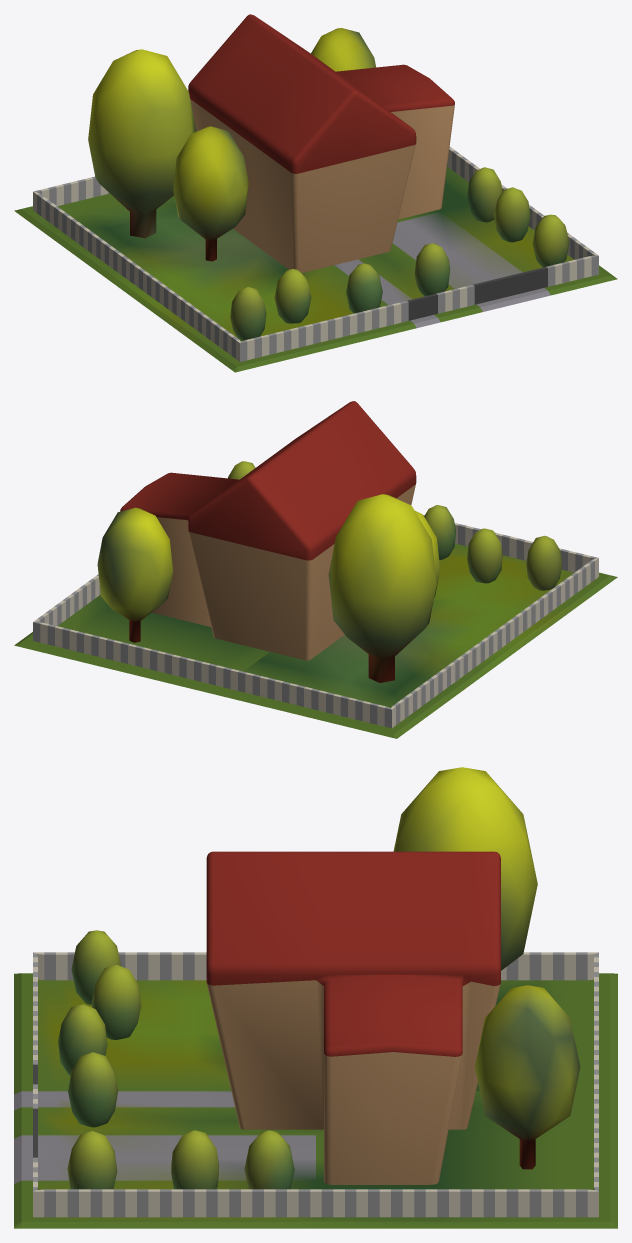
The model's file is SM_Building_House.fbx.
The picture shows the model from 3 angles, top to bottom: view 1: azimuth 30°, elevation 25°; view 2: azimuth 150°, elevation 25°; view 3: azimuth 270°, elevation 25°; orthographic projection. The views are drawn at different scales.
Visible parts, largest first — view 1: House, BaseGrass, Fence, TreeBig, Bushes, TreeSmall, TreeSmall.001; view 2: House, BaseGrass, Fence, TreeBig, TreeSmall.001, Bushes; view 3: House, BaseGrass, Fence, Bushes, TreeSmall.001, TreeBig.
Boxes of the visible parts, x1,y1,x2,y2 form: House: (188,14,454,272); BaseGrass: (14,166,617,372); Fence: (33,146,598,361); TreeBig: (88,49,196,238); Bushes: (230,167,569,340); TreeSmall: (173,126,248,261); TreeSmall.001: (311,28,376,71); House: (120,401,416,660); BaseGrass: (14,543,617,738); Fence: (33,515,598,728); TreeBig: (328,494,436,682); TreeSmall.001: (97,507,172,642); Bushes: (228,461,562,590); House: (206,851,500,1184); BaseGrass: (14,973,617,1228); Fence: (33,952,598,1217); Bushes: (58,930,294,1189); TreeSmall.001: (475,985,580,1169); TreeBig: (393,767,537,970).
Bounding box in the file's own units: 800 × 373 × 800.
